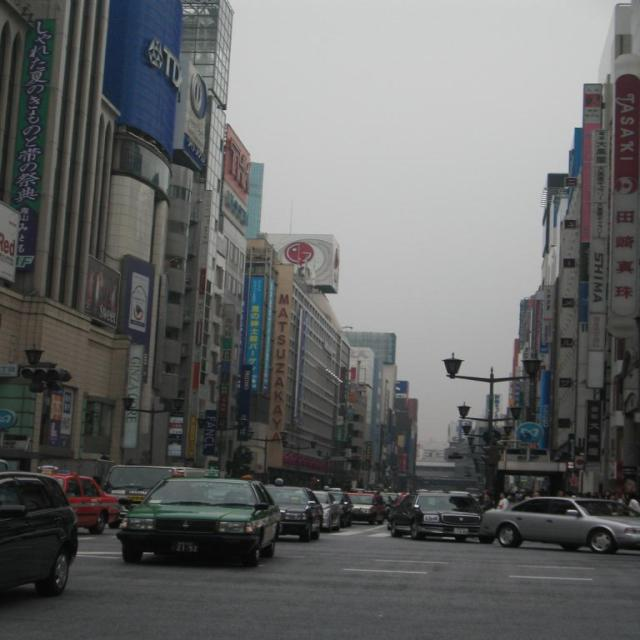car: (106, 472, 284, 567), (393, 483, 492, 539)
